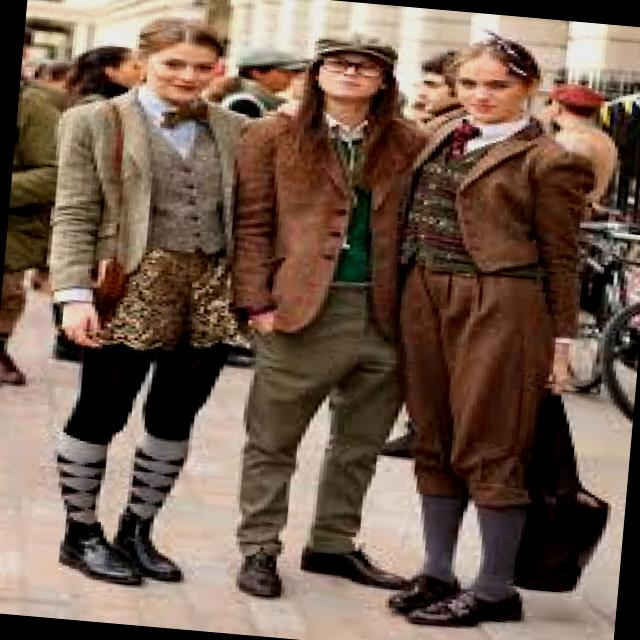face: (454, 54, 535, 124), (142, 43, 217, 106), (314, 53, 385, 103)
foot-wear: (50, 506, 186, 592), (300, 547, 403, 589), (408, 592, 524, 628), (231, 539, 288, 599)
lower-wear: (56, 249, 242, 525), (236, 284, 402, 554), (398, 264, 551, 508)
